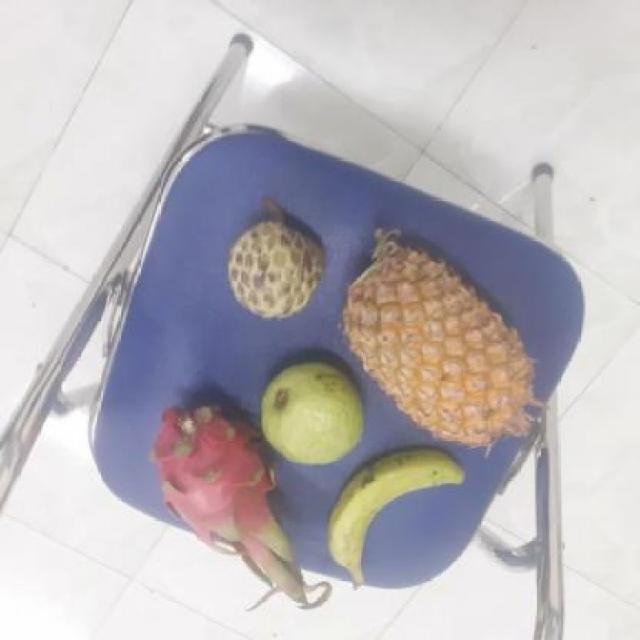banana: (328, 444, 470, 582)
dragon fruit: (156, 402, 307, 566)
guava: (260, 359, 368, 466)
pineapple: (345, 231, 540, 449)
sugar apple: (230, 218, 332, 318)
